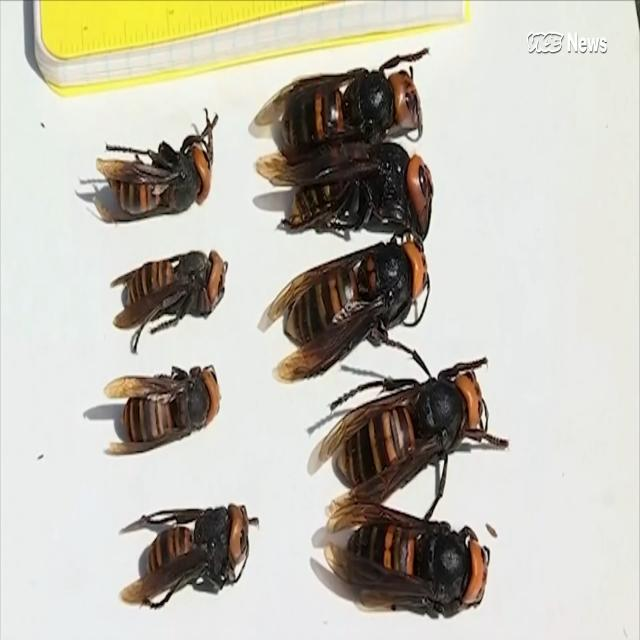Hornets: (310, 359, 510, 493), (256, 230, 430, 375), (324, 497, 499, 620), (254, 47, 430, 155), (255, 145, 434, 245), (115, 501, 260, 613), (92, 105, 220, 222), (110, 247, 231, 357), (102, 359, 222, 459)
